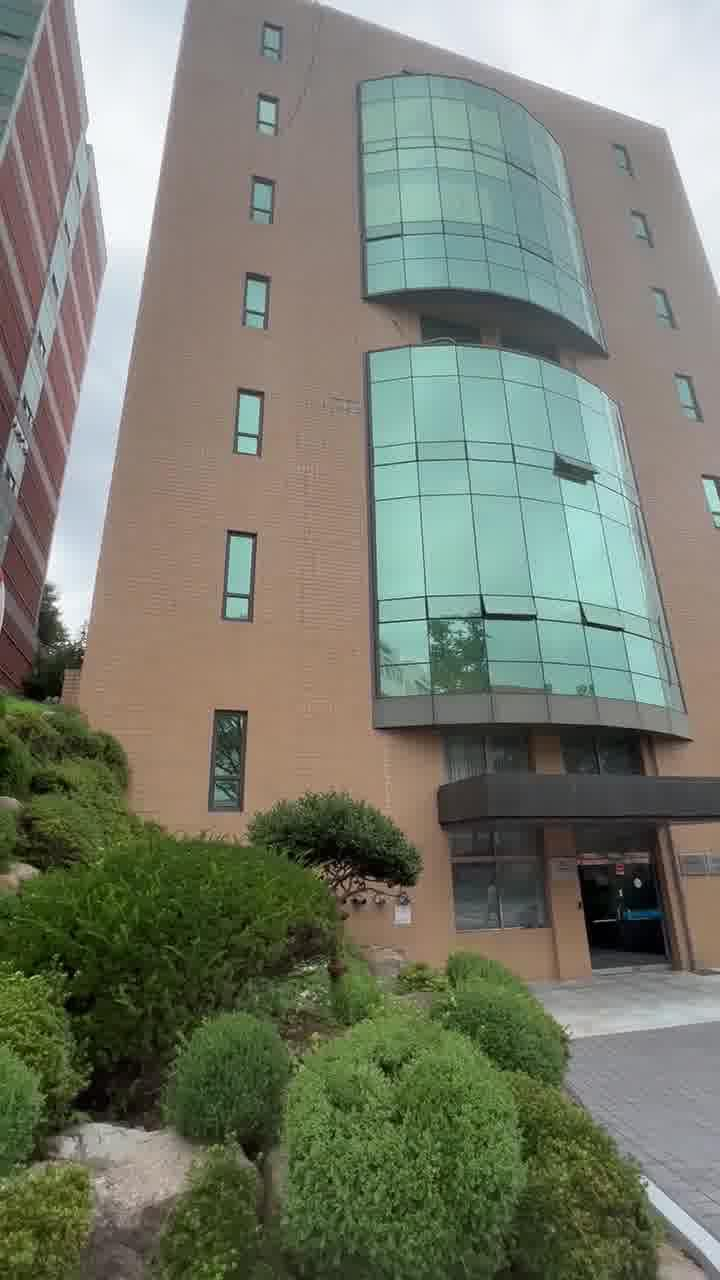building: (176, 2, 720, 820)
